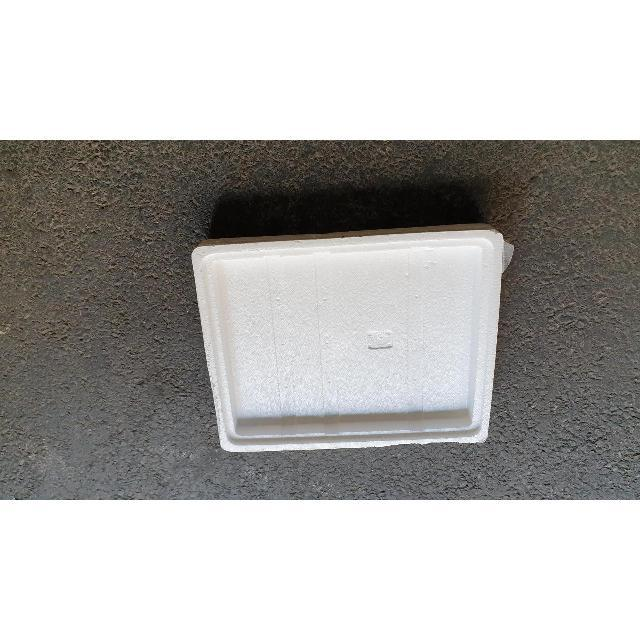Recipiente plastico: (192, 225, 512, 451)
